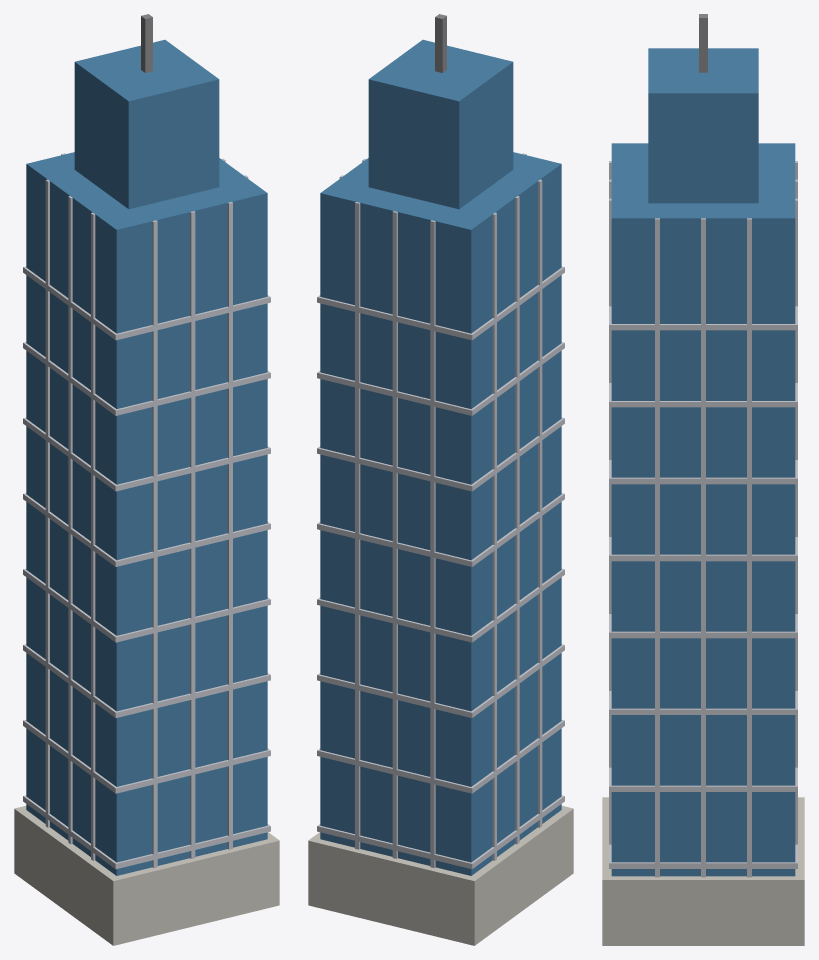
Rendered from tower_3.glb.
3 renders of one model, left to right at view 1: azimuth 30°, elevation 25°; view 2: azimuth 150°, elevation 25°; view 3: azimuth 270°, elevation 25°, orthographic.
Parts seen in each view (by area): view 1: tower_3; view 2: tower_3; view 3: tower_3.
Part boxes in pixels (box(x1,y1,x2,y2)): tower_3: box(14, 14, 279, 945); tower_3: box(308, 14, 573, 945); tower_3: box(602, 14, 804, 945).
Bounding box in the file's own units: 3.23 × 16.17 × 3.33.
